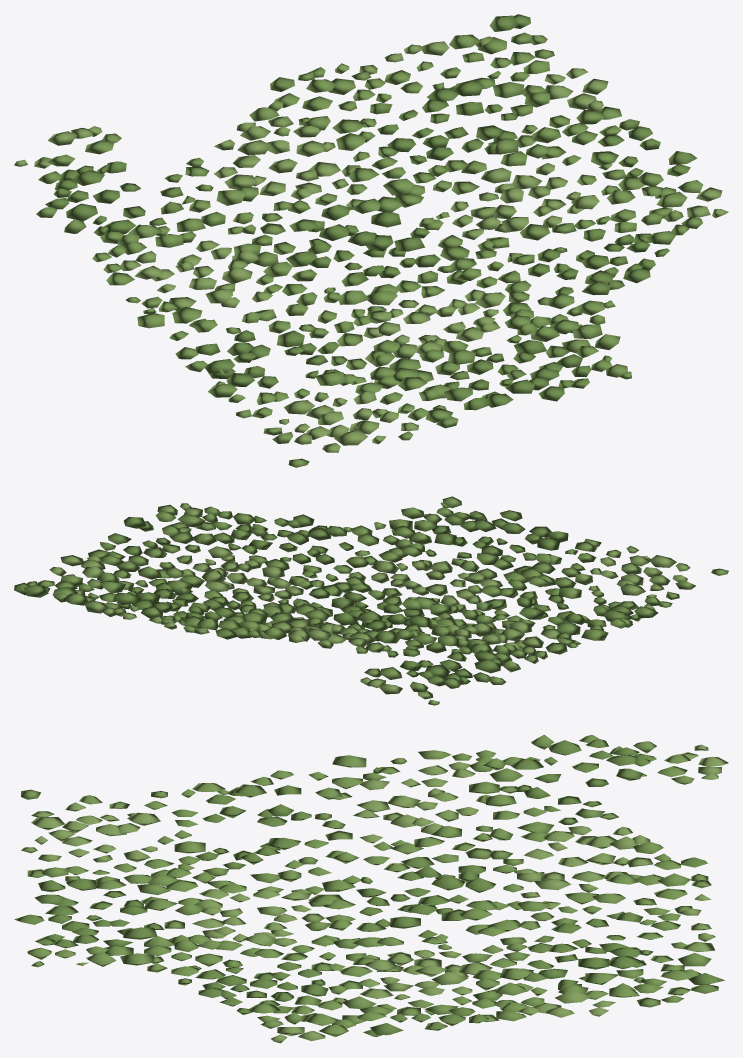
Rendered from canopy-1-0-1.glb.
3 views of the same model, one above another, from view 1: azimuth 30°, elevation 25°; view 2: azimuth 150°, elevation 25°; view 3: azimuth 270°, elevation 25° (orthographic). The views are drawn at different scales.
Size of the model in its own units: 515 by 80 by 522.
1 material, 1 textured.
